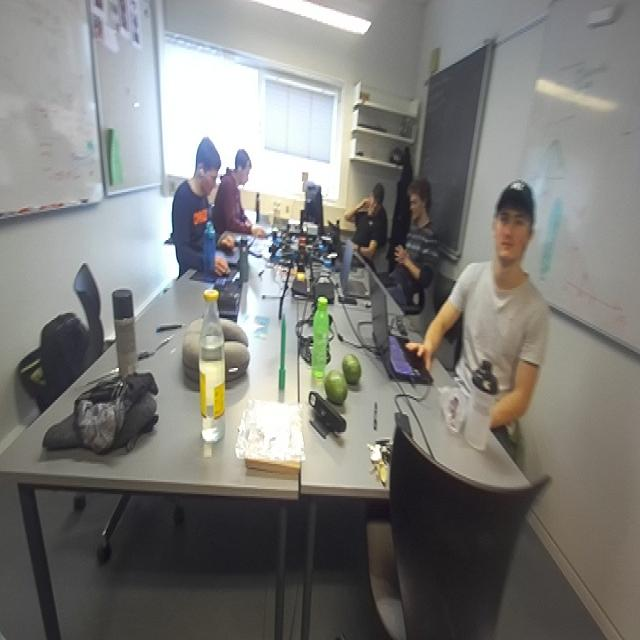probe: (279, 318, 285, 391)
